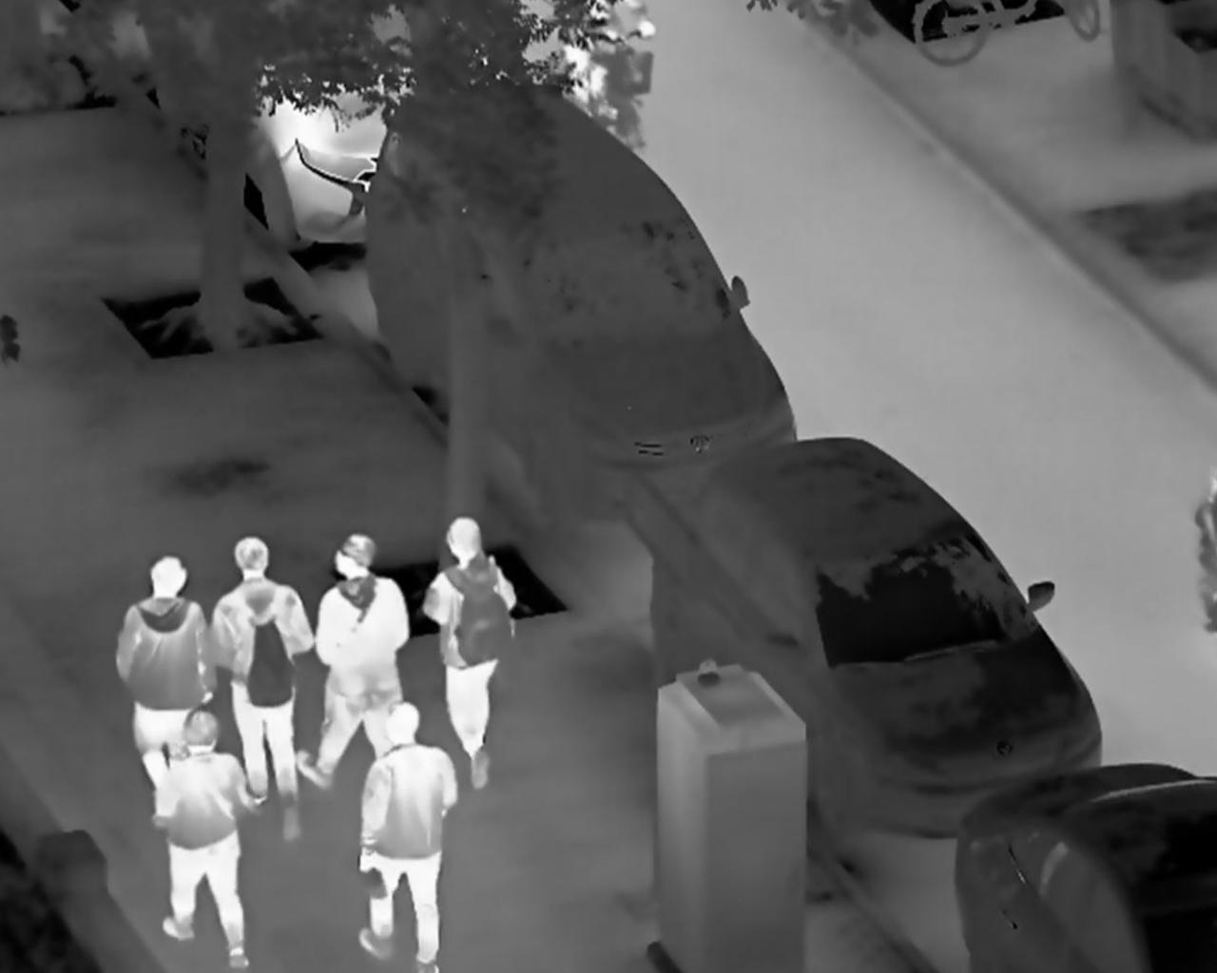person: (208, 533, 315, 846), (295, 533, 410, 792), (356, 700, 456, 973), (420, 515, 518, 790), (150, 711, 254, 968), (114, 552, 219, 792)
